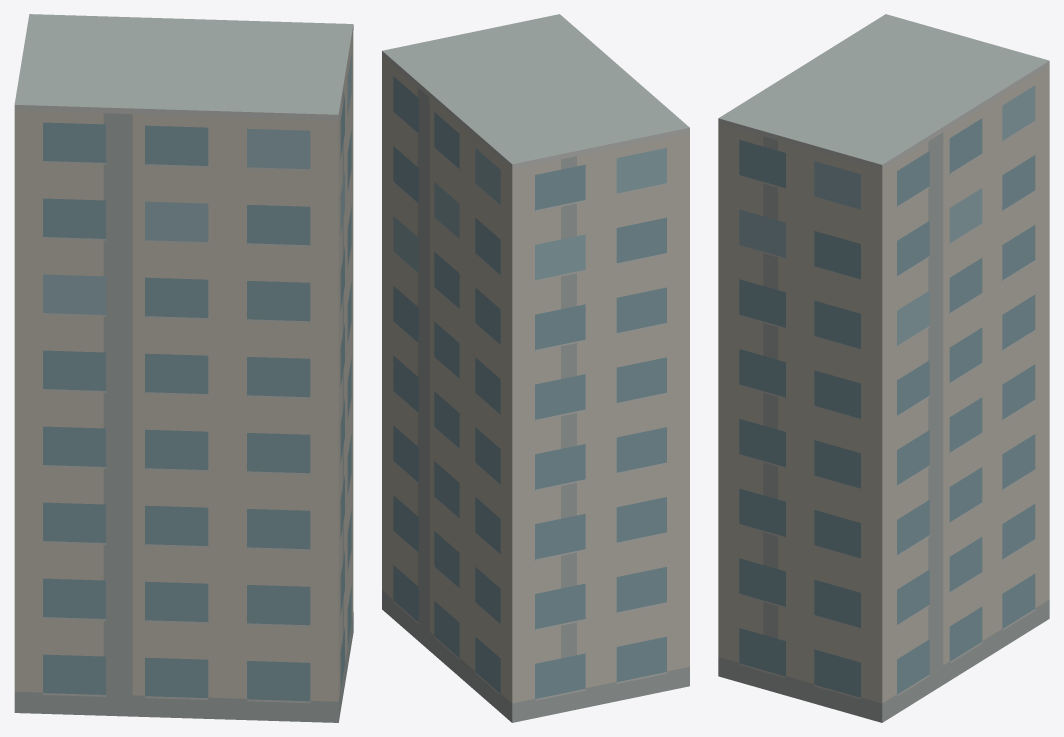
The model's file is survey-upis-32882285.glb.
3 renders of one model, left to right at view 1: azimuth 30°, elevation 25°; view 2: azimuth 150°, elevation 25°; view 3: azimuth 270°, elevation 25°, orthographic. The views are drawn at different scales.
Parts seen in each view (by area): view 1: survey-upis-32882285.tmp; view 2: survey-upis-32882285.tmp; view 3: survey-upis-32882285.tmp.
Part boxes in pixels (x1,y1,x2,y2): survey-upis-32882285.tmp: (14, 14, 353, 722); survey-upis-32882285.tmp: (382, 14, 689, 722); survey-upis-32882285.tmp: (718, 14, 1049, 722).
Bounding box in the file's own units: 15.2 × 26.2 × 14.11.
